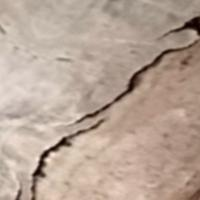crack: (18, 11, 199, 199)
